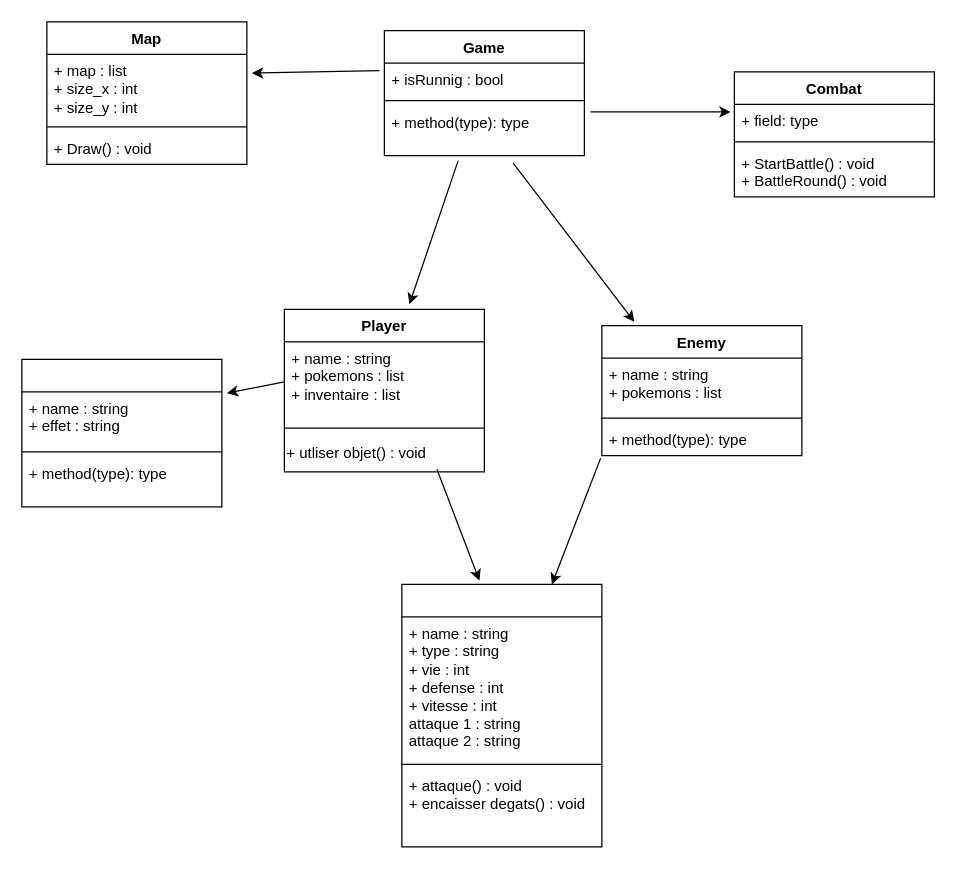
Image size: 956x873. Some labels were removed from this diagram. Each missing label, with the box of its shape:
Objet: (21, 358, 222, 507)
Pokemon: (401, 583, 602, 847)
